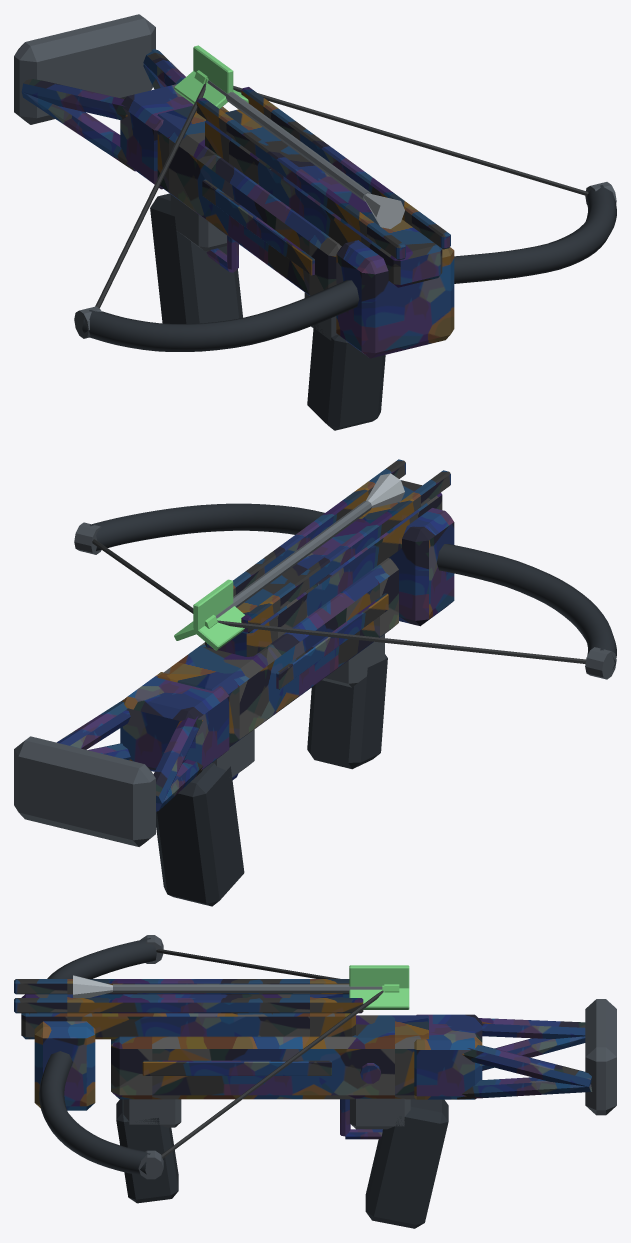
File: Crossbow_HardenedSteel.glb
The picture shows the model from 3 angles, top to bottom: view 1: azimuth 30°, elevation 25°; view 2: azimuth 150°, elevation 25°; view 3: azimuth 270°, elevation 25°; orthographic projection. The views are drawn at different scales.
Parts seen in each view (by area): view 1: Receiver, BowMount, ButtPad, FlightDeck, LeftRecurveLimb, PistolGrip, ForeGrip, RightRecurveLimb, BoltRailLeft, RearReceiver, BoltRailRight, GreenSideAccentL (+10 smaller); view 2: Receiver, ButtPad, PistolGrip, FlightDeck, RearReceiver, ForeGrip, RightRecurveLimb, LeftRecurveLimb, BowMount, BoltRailLeft, BoltRailRight, GreenSideAccentL (+13 smaller); view 3: Receiver, FlightDeck, PistolGrip, BoltRailRight, RearReceiver, RightRecurveLimb, BowMount, ButtPad, ForeGrip, GreenSideAccentR, BoltRailLeft, StockUpperRight (+13 smaller).
Part boxes in pixels (<box>): Receiver: <box>157,105,341,295</box>; BowMount: <box>336,240,454,358</box>; ButtPad: <box>14,14,155,124</box>; FlightDeck: <box>205,109,442,287</box>; LeftRecurveLimb: <box>82,280,359,351</box>; PistolGrip: <box>150,193,242,323</box>; ForeGrip: <box>307,324,385,430</box>; RightRecurveLimb: <box>454,185,616,283</box>; BoltRailLeft: <box>196,97,405,260</box>; RearReceiver: <box>120,84,228,189</box>; BoltRailRight: <box>241,87,450,249</box>; GreenSideAccentL: <box>202,179,314,275</box>; Receiver: <box>157,558,398,747</box>; ButtPad: <box>14,736,155,846</box>; PistolGrip: <box>156,763,244,906</box>; FlightDeck: <box>205,480,442,656</box>; RearReceiver: <box>120,672,229,771</box>; ForeGrip: <box>307,654,387,769</box>; RightRecurveLimb: <box>90,503,324,550</box>; LeftRecurveLimb: <box>437,544,616,669</box>; BowMount: <box>389,508,454,626</box>; BoltRailLeft: <box>241,470,450,632</box>; BoltRailRight: <box>233,459,405,596</box>; GreenSideAccentL: <box>276,593,388,689</box>; Receiver: <box>111,1015,428,1099</box>; FlightDeck: <box>21,994,355,1039</box>; PistolGrip: <box>365,1099,448,1228</box>; BoltRailRight: <box>14,998,363,1013</box>; RearReceiver: <box>414,1014,482,1099</box>; RightRecurveLimb: <box>39,1051,150,1175</box>; BowMount: <box>34,1021,95,1110</box>; ButtPad: <box>585,999,616,1115</box>; ForeGrip: <box>116,1099,178,1203</box>; GreenSideAccentR: <box>142,1060,331,1075</box>; BoltRailLeft: <box>14,979,349,994</box>; StockUpperRight: <box>462,1045,591,1086</box>.
Bounding box in the file's own units: 2.19 × 1.16 × 2.49.
Materials: 8 (1 with a texture image).
